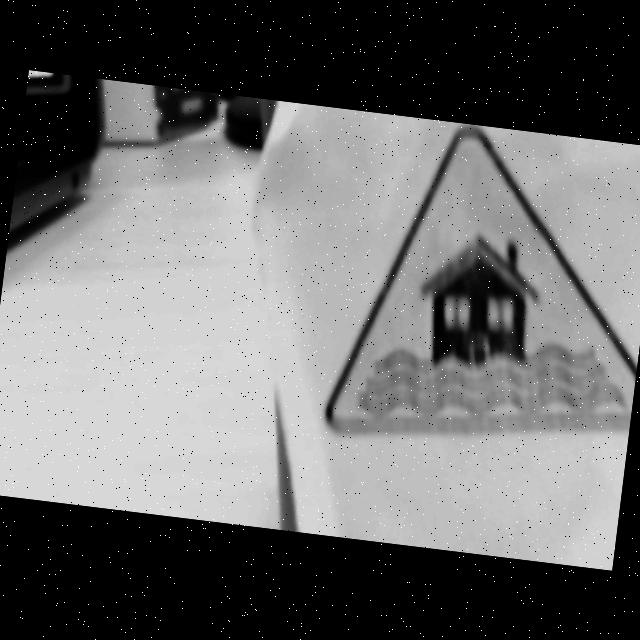Tsunami: (327, 127, 633, 434)
